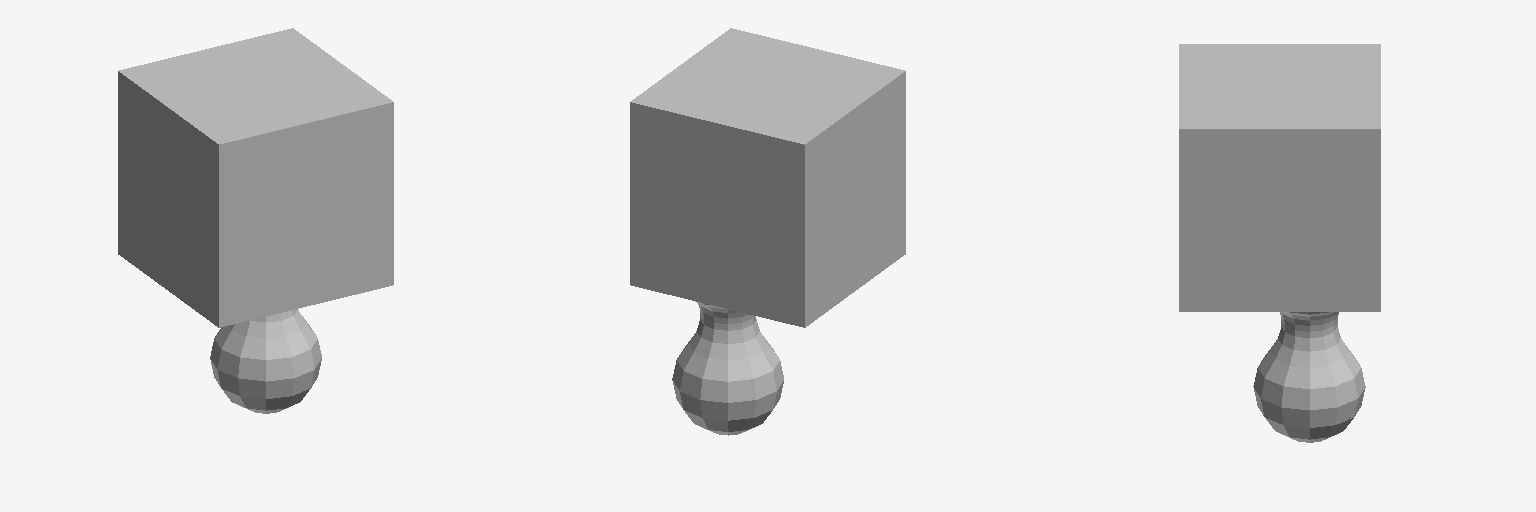
File: drip_2.obj
3 renders of one model, left to right at view 1: azimuth 30°, elevation 25°; view 2: azimuth 150°, elevation 25°; view 3: azimuth 270°, elevation 25°, orthographic.
Parts seen in each view (by area): view 1: Cube.001_Cube.000, Sphere; view 2: Cube.001_Cube.000, Sphere; view 3: Cube.001_Cube.000, Sphere.
Part boxes in pixels (bbox=[...]): Cube.001_Cube.000: bbox=[118, 28, 393, 327]; Sphere: bbox=[210, 309, 321, 413]; Cube.001_Cube.000: bbox=[630, 28, 905, 327]; Sphere: bbox=[672, 301, 783, 435]; Cube.001_Cube.000: bbox=[1179, 44, 1380, 311]; Sphere: bbox=[1253, 312, 1365, 442].
Size of the model in its own units: 1 by 1.85 by 1.